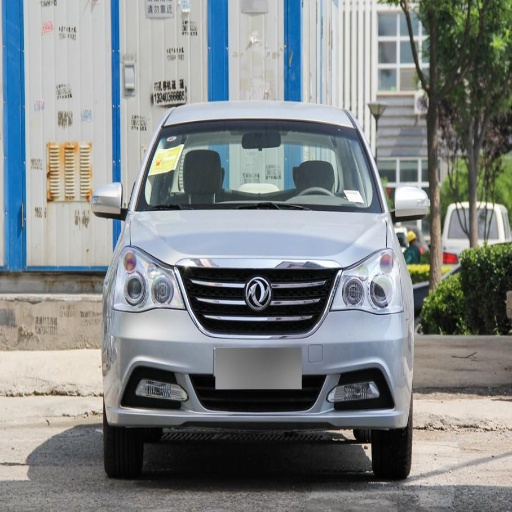front_bumper: (107, 257, 412, 430)
front_right_light: (117, 247, 182, 310)
hood: (129, 210, 387, 267)
left_mirror: (394, 186, 431, 222)
